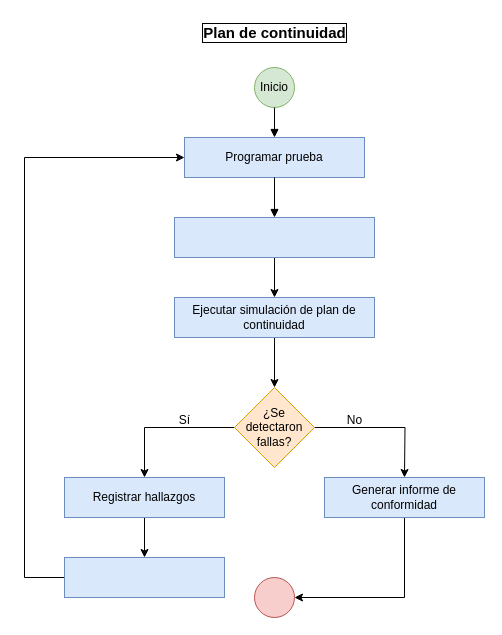
Image size: 502x635. Some labels were removed from this diagram. The shapes that lost their labels are listed below. From the top down, each one's centre as x and y in pixels, then its label:
pixel 274 237: Notificar a área de Ti y otras
pixel 144 577: Elaborar plan de mejora
pixel 274 597: Fin
